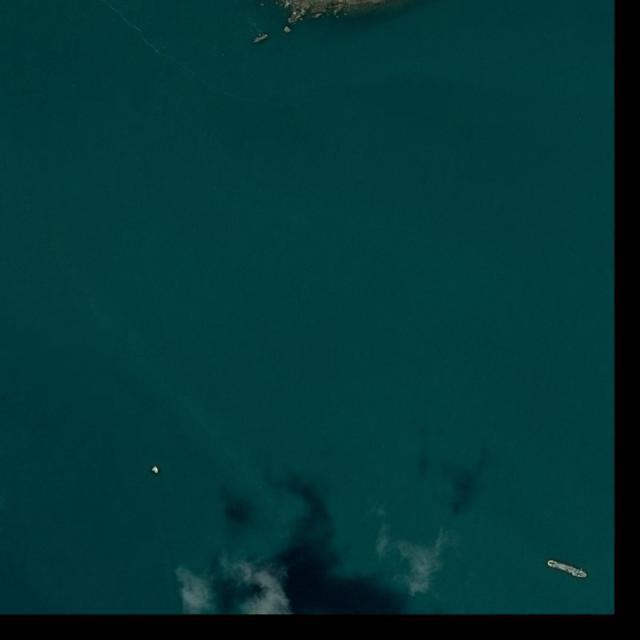ship: (546, 558, 590, 581), (151, 466, 161, 475)
